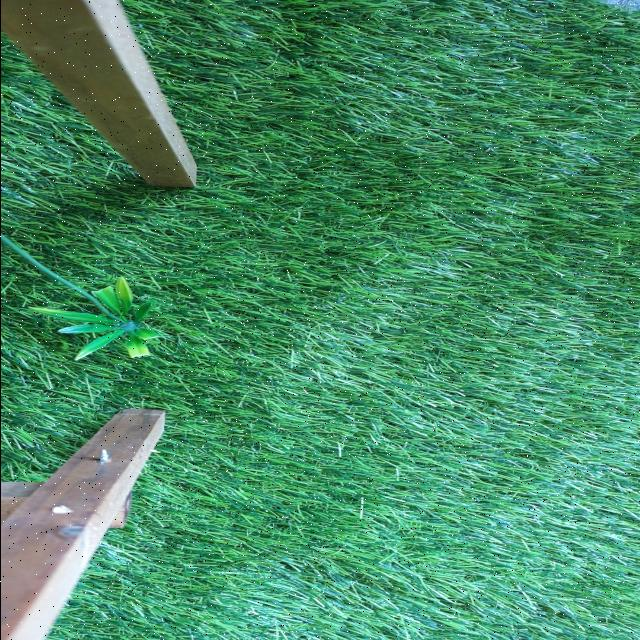base: (25, 278, 161, 360)
